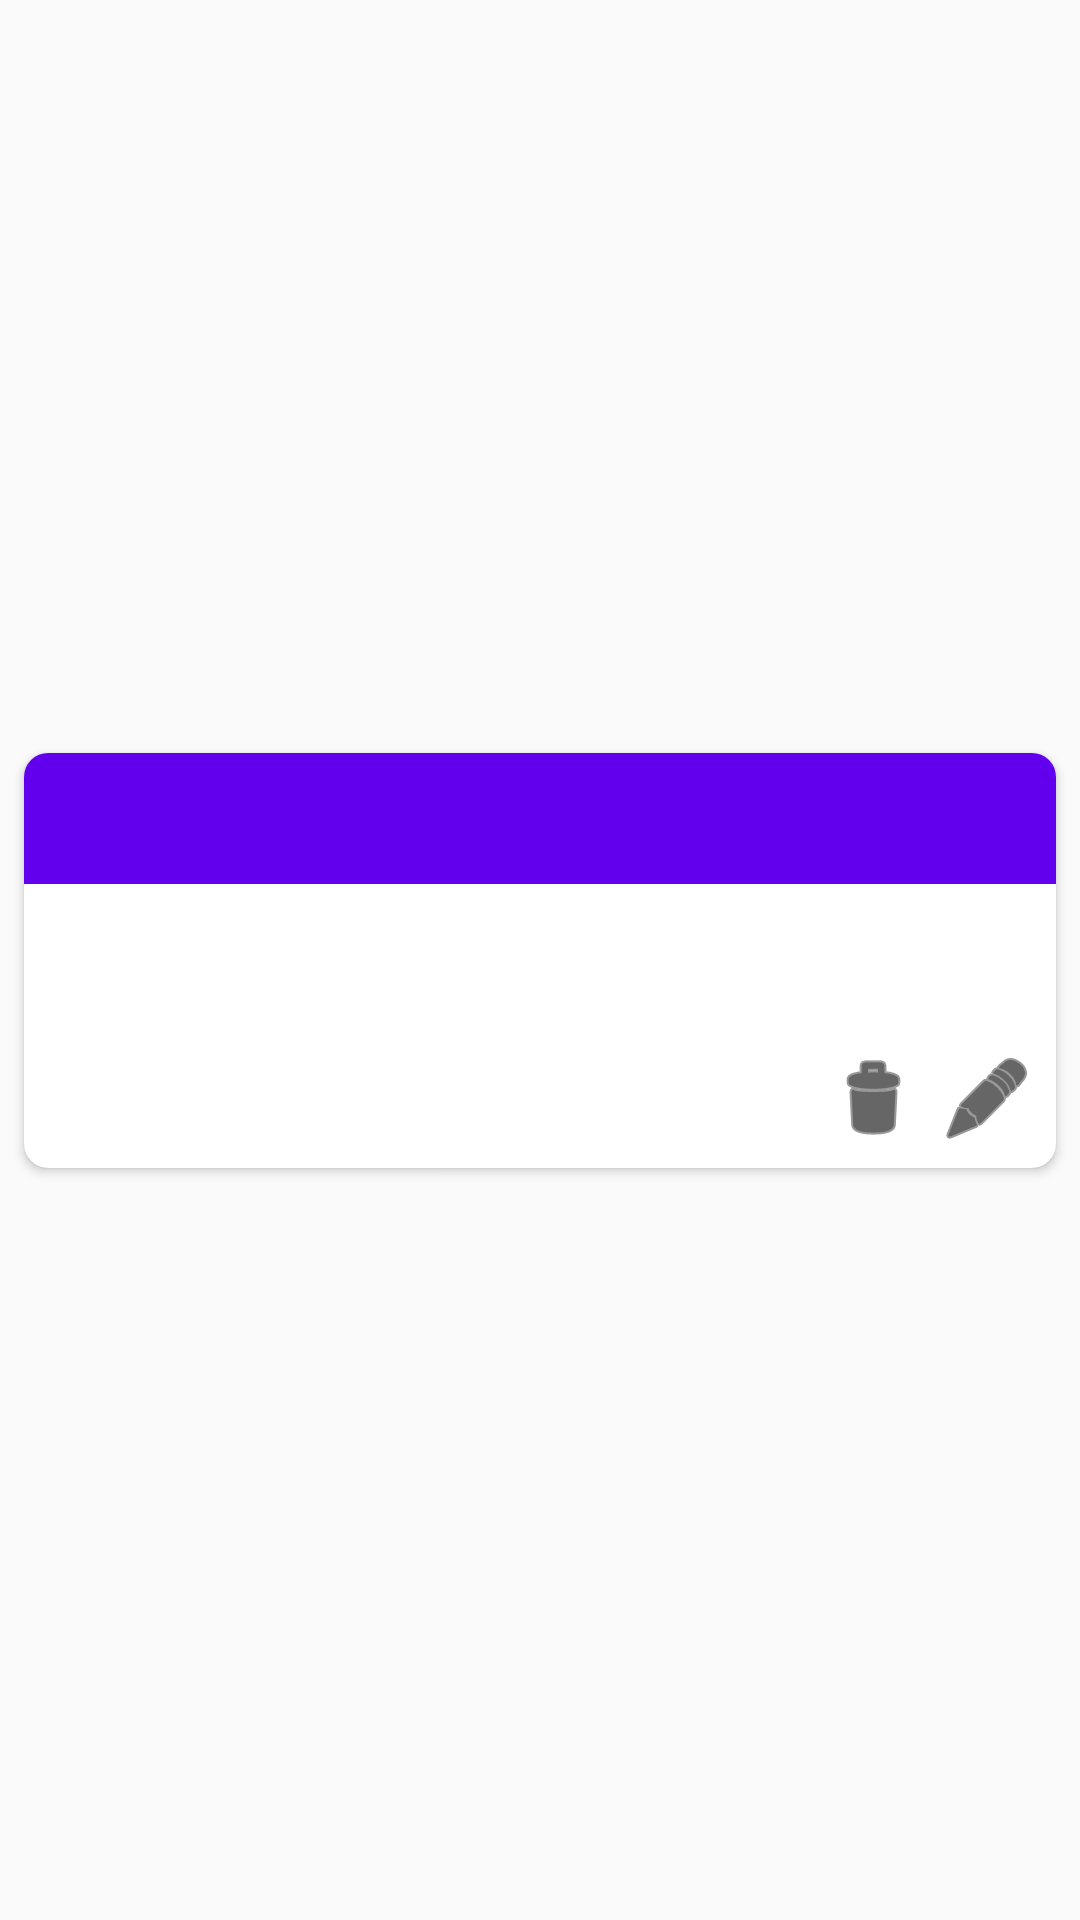

Where to tap for icons on this 1080 × 1920 app screen, as (x=x, y=y):
delete: (x=873, y=1097)
edit: (x=986, y=1098)
